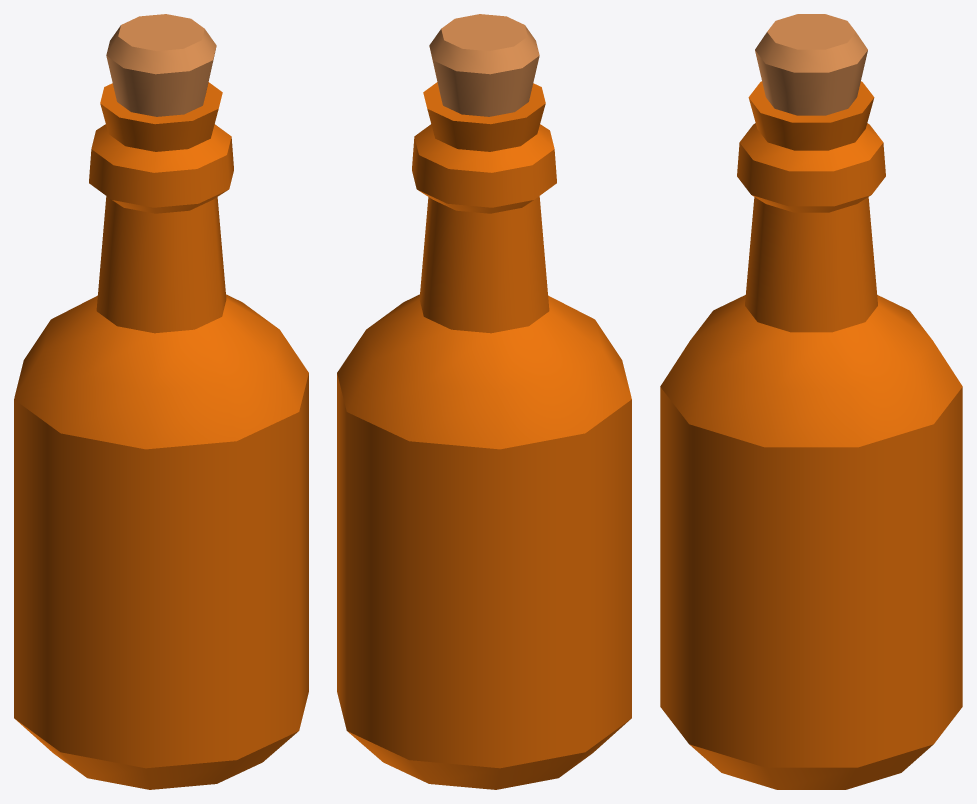
File: Bottle_M.fbx
The picture shows the model from 3 angles, left to right: view 1: azimuth 30°, elevation 25°; view 2: azimuth 150°, elevation 25°; view 3: azimuth 270°, elevation 25°; orthographic projection.
Visible parts, largest first — view 1: Bottle_M; view 2: Bottle_M; view 3: Bottle_M.
Part boxes in pixels (<box>): Bottle_M: <box>14,14,308,789</box>; Bottle_M: <box>337,14,631,789</box>; Bottle_M: <box>660,14,962,789</box>.
Size of the model in its own units: 17.89 by 48.92 by 18.81.
